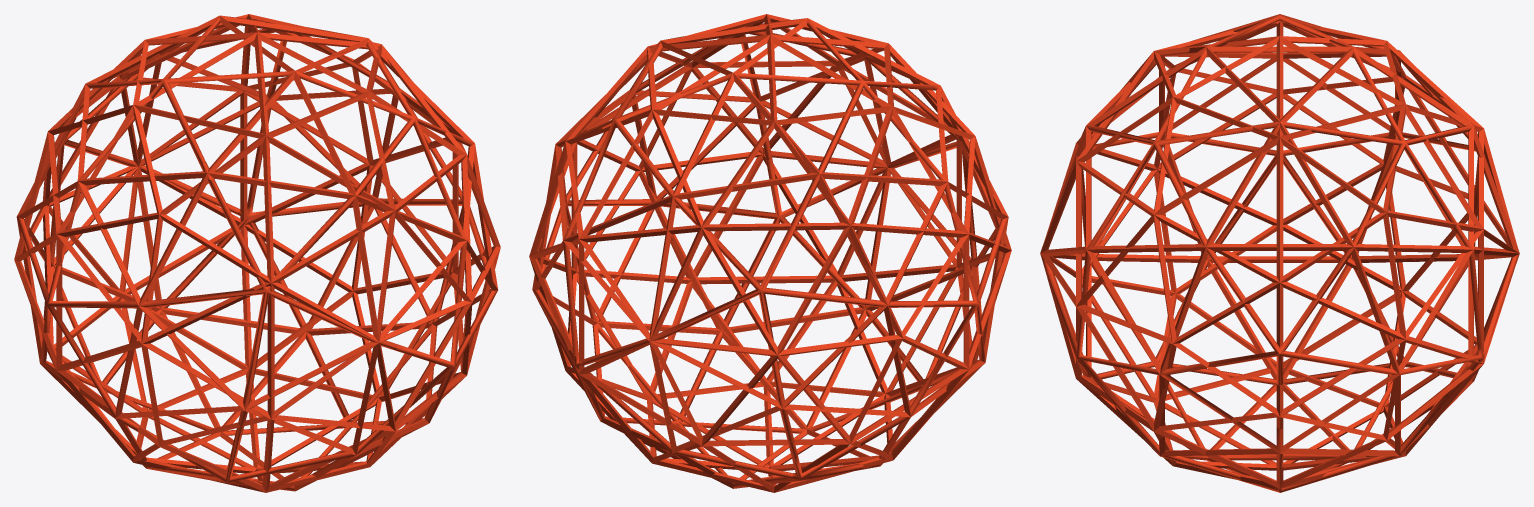
File: Broken_SCage.glb
3 renders of one model, left to right at view 1: azimuth 30°, elevation 25°; view 2: azimuth 150°, elevation 25°; view 3: azimuth 270°, elevation 25°, orthographic.
Parts seen in each view (by area): view 1: Icosphere_2, Object_4_cell.002, Object_4_cell.005, Object_4_cell, Object_4_cell.003, Object_4_cell.001, Object_4_cell.004; view 2: Icosphere_2, Object_4_cell.005, Object_4_cell.002, Object_4_cell.003, Object_4_cell, Object_4_cell.001, Object_4_cell.004; view 3: Icosphere_2, Object_4_cell.005, Object_4_cell, Object_4_cell.002, Object_4_cell.003, Object_4_cell.001, Object_4_cell.004.
Boxes of the visible parts, x1,y1,x2,y2 form: Icosphere_2: (14,14,500,492); Object_4_cell.002: (30,178,398,485); Object_4_cell.005: (16,15,404,323); Object_4_cell: (195,42,498,302); Object_4_cell.003: (104,167,490,435); Object_4_cell.001: (134,289,497,483); Object_4_cell.004: (255,302,460,491); Icosphere_2: (529,14,1011,492); Object_4_cell.005: (542,19,963,441); Object_4_cell.002: (785,80,1008,482); Object_4_cell.003: (532,203,790,488); Object_4_cell: (563,18,942,203); Object_4_cell.001: (654,160,798,480); Object_4_cell.004: (767,156,864,439); Icosphere_2: (1040,22,1518,488); Object_4_cell.005: (1174,14,1519,349); Object_4_cell: (1067,46,1347,375); Object_4_cell.002: (1040,64,1417,436); Object_4_cell.003: (1162,317,1486,492); Object_4_cell.001: (1077,317,1387,492); Object_4_cell.004: (1048,274,1230,461).
Size of the model in its own units: 5.12 by 5.13 by 5.13.
